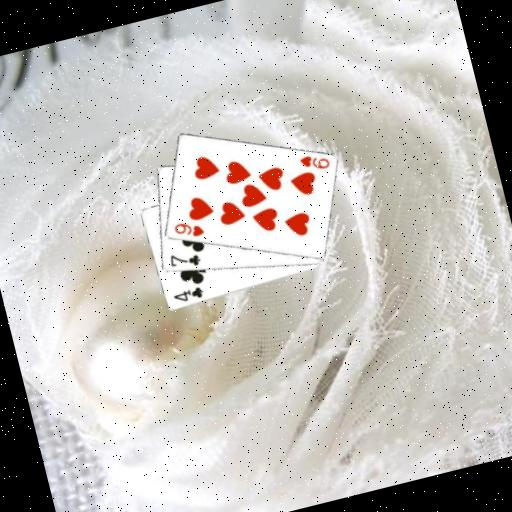4C: (169, 284, 206, 307)
7C: (165, 246, 203, 274)
9H: (170, 215, 207, 244), (295, 149, 332, 177)
